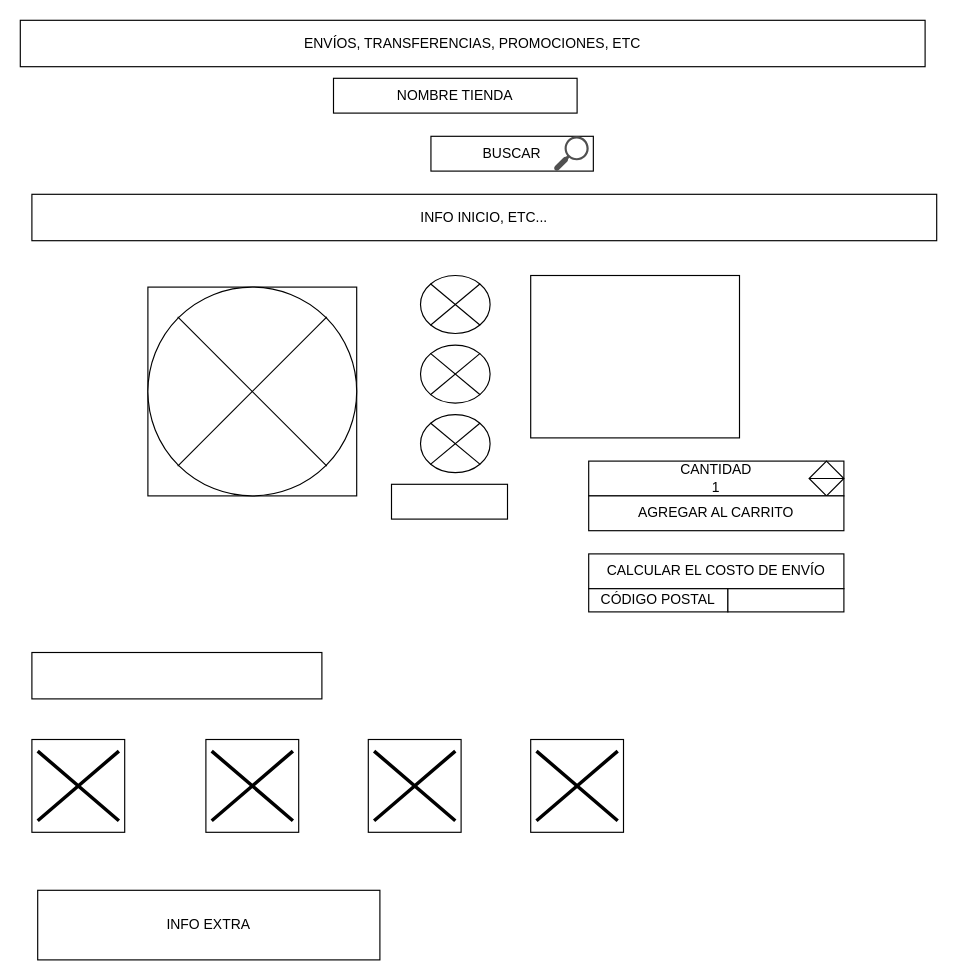
Some shapes in this 957 by 980 pixel diagram are drawn without their labels. Here are the shapes that lost their labels. From the top down, the centre of each, then its label:
At point (635, 356): "NOMBRE DEL PRODUCTO DETALLE PRECIO FORMAS DE PAGO".
At point (448, 501): "VISTAS DEL PRODUCTO".
At point (785, 600): "CALCULAR".
At point (176, 675): "PRODUCTOS SIMILARES".
